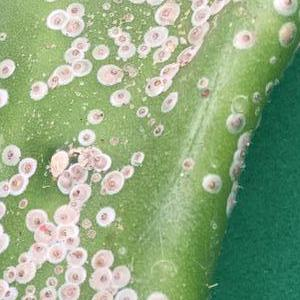Femea: (59, 168, 91, 200), (91, 253, 112, 287), (69, 249, 87, 284), (16, 254, 33, 281), (30, 246, 61, 260), (234, 29, 255, 49), (99, 65, 121, 83), (55, 226, 76, 243), (202, 174, 221, 192), (55, 206, 74, 223), (276, 0, 298, 14), (64, 18, 83, 34), (26, 210, 43, 227), (4, 144, 19, 163), (39, 221, 54, 240), (46, 11, 62, 28), (71, 58, 89, 73), (62, 48, 81, 62), (97, 208, 112, 224), (18, 160, 34, 175), (86, 110, 102, 124), (66, 4, 82, 18), (111, 91, 127, 105), (159, 9, 174, 23), (30, 82, 43, 98), (71, 38, 86, 51), (146, 29, 161, 42), (190, 25, 203, 40), (54, 67, 70, 79), (0, 60, 11, 77), (164, 36, 177, 50), (115, 32, 130, 44), (117, 43, 132, 55), (160, 65, 174, 77), (79, 131, 93, 143), (147, 78, 162, 89), (106, 27, 120, 37), (93, 47, 105, 58), (155, 49, 165, 62), (48, 76, 59, 86), (137, 43, 147, 53)
